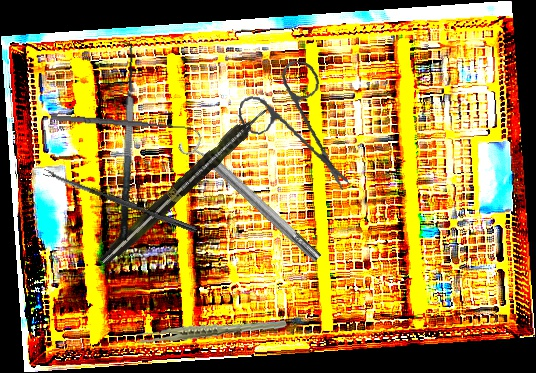Fixation Ring: (176, 126, 327, 271)
Handpiece: (95, 101, 275, 270)
Hook Surgical: (50, 109, 192, 132)
Iris Scissors: (230, 54, 366, 191)
Spatula Surgical: (102, 41, 142, 241)
Surgical Spoon: (42, 167, 198, 234)
Tissue Forceps: (134, 306, 288, 357)
